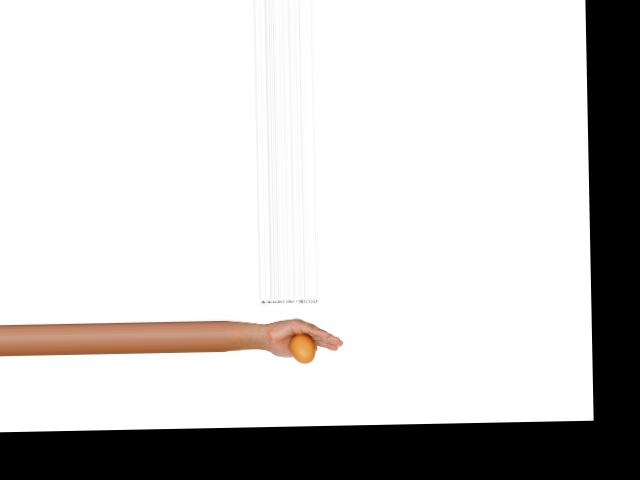egg: (289, 332, 316, 363)
